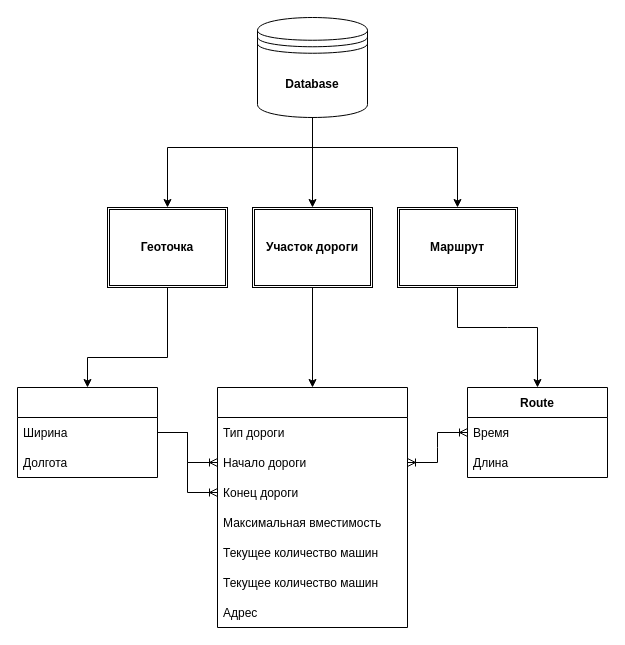
This 625x645 diagram has some shape labels left out. Here are the shapes that lost their labels. From the top down, the box of each, then its label:
(16, 386, 158, 478): Geopoint
(216, 386, 408, 628): Road
